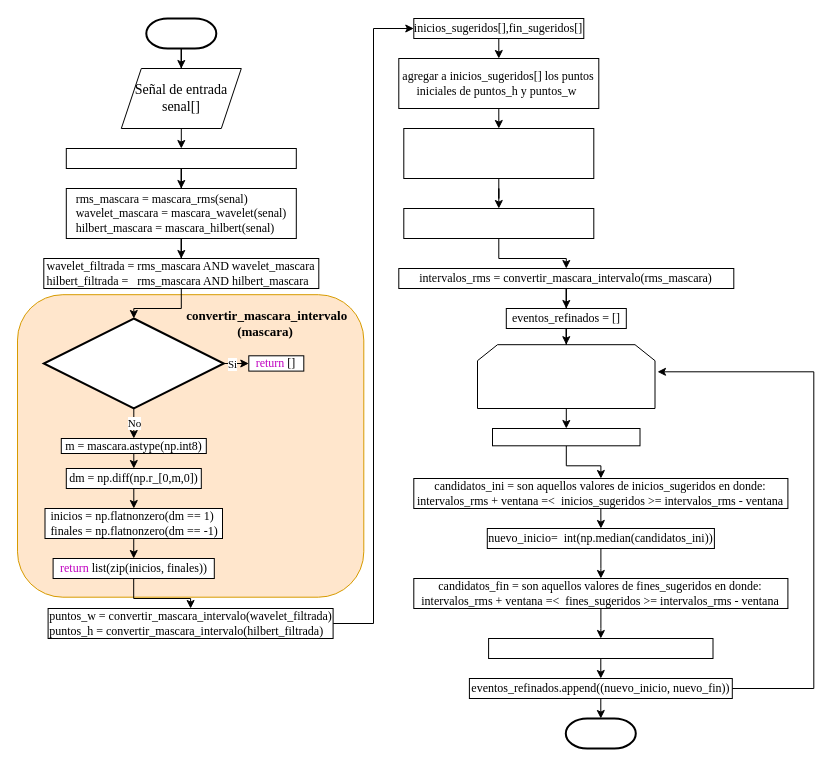
Image size: 840x766. Some labels were removed from this diagram. Here are the shapes that lost their labels. From the top down, the box of each, then its label:
(145, 17, 217, 49): Inicio
(65, 148, 296, 168): muestras_por_ciclo = F_muestreo/F_nominal
(403, 128, 594, 178): agregar a fin_sugeridos[] los puntos fianales de puntos_h y puntos_w
(403, 208, 594, 238): Guardarlos en los arreglos ordenados inicios_sugeridos y fines_sugeridos.
(42, 317, 224, 409): ¿mascara.size = 0 or not mascara.any()?
(476, 344, 655, 408): Desde : inicio_rms, fin_rms hasta : intervalos_rms incremento: 1
(492, 428, 640, 446): ventana = muestras_por_ciclo
(488, 638, 713, 658): nuevo_fin = int(np.median(candidatos_ini))
(564, 717, 636, 749): Fin
